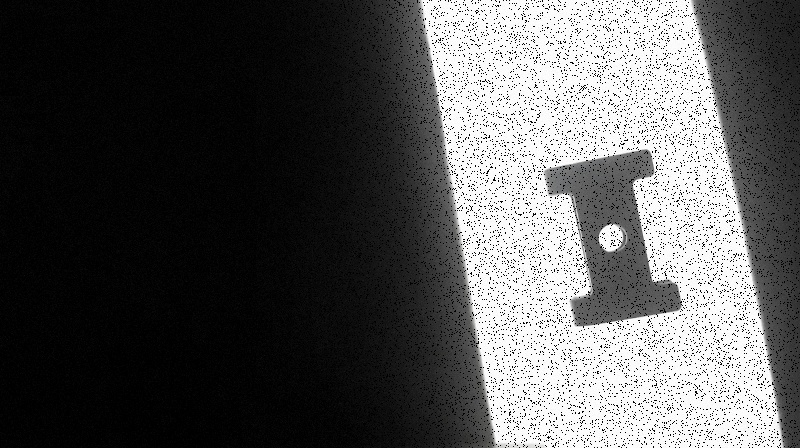O002: (543, 145, 686, 330)
